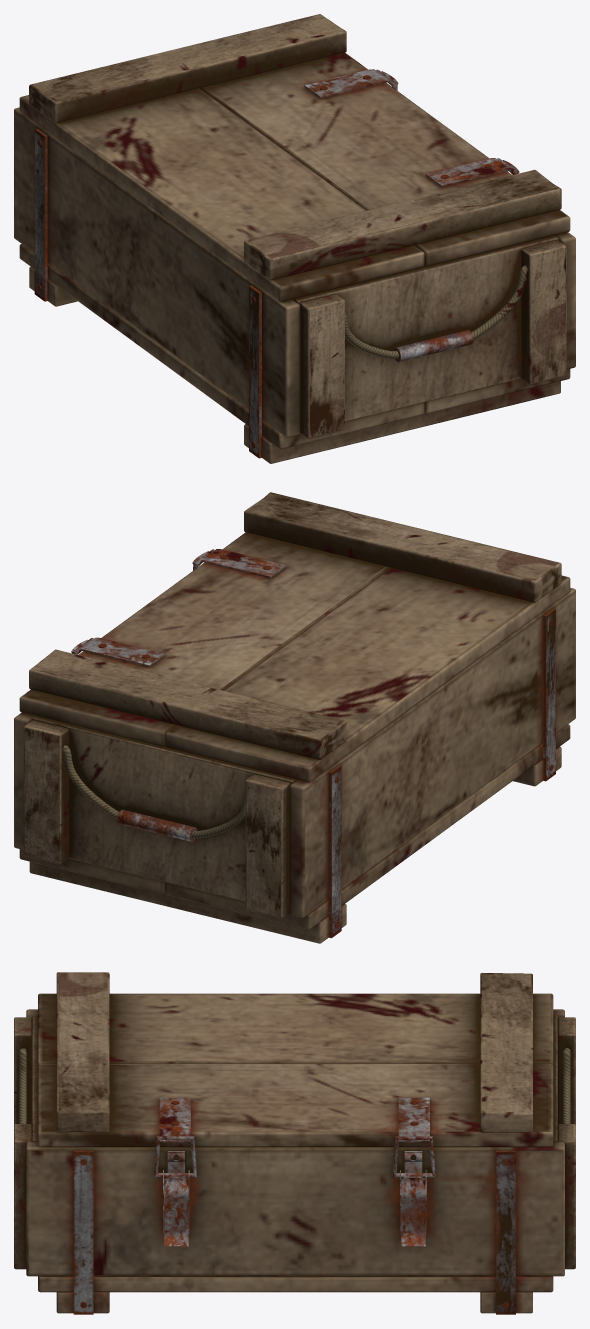
File: pubg_death_crate.glb
3 views of the same model, one above another, from view 1: azimuth 30°, elevation 25°; view 2: azimuth 150°, elevation 25°; view 3: azimuth 270°, elevation 25° (orthographic).
Visible parts, largest first — view 1: Circle.001; view 2: Circle.001; view 3: Circle.001.
Boxes of the visible parts, <box> form: Circle.001: <box>14,14,575,463</box>; Circle.001: <box>14,492,575,943</box>; Circle.001: <box>14,972,575,1314</box>.
Bounding box in the file's own units: 2.2 × 1.39 × 3.51.
1 material, 1 textured.
